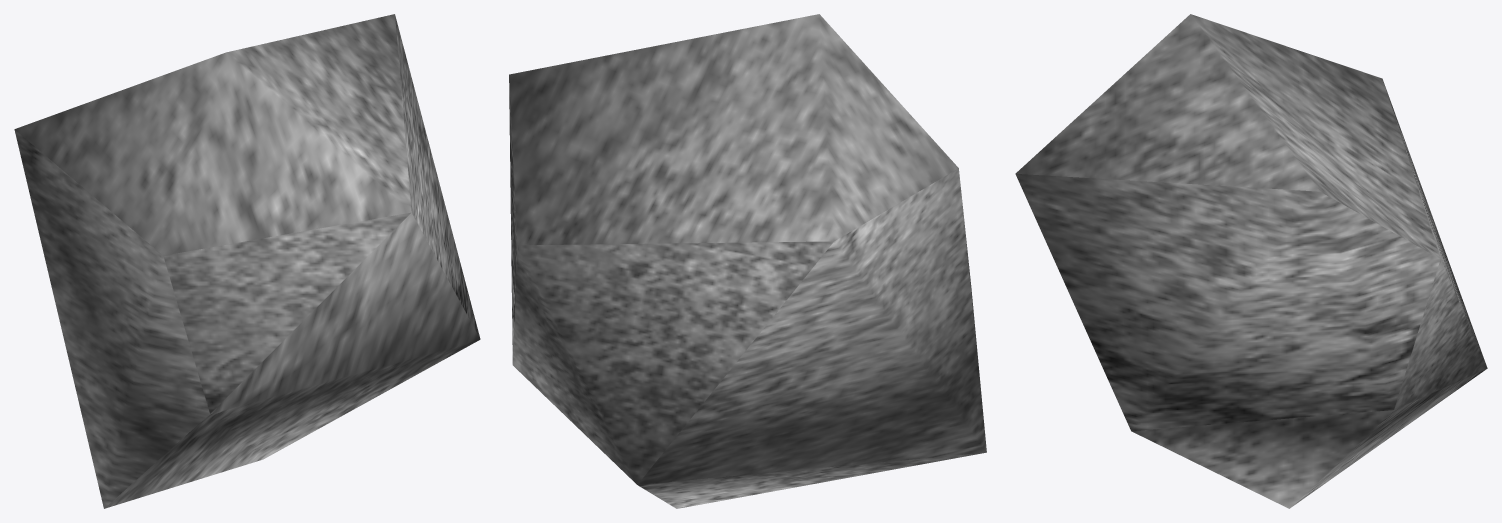
The model's file is GeoSphere008.FBX.
3 views of the same model, side by side, from view 1: azimuth 30°, elevation 25°; view 2: azimuth 150°, elevation 25°; view 3: azimuth 270°, elevation 25° (orthographic). The views are drawn at different scales.
Parts seen in each view (by area): view 1: GeoSphere008; view 2: GeoSphere008; view 3: GeoSphere008.
Boxes of the visible parts, left/top/right/bottom form: GeoSphere008: left=14, top=14, right=480, bottom=508; GeoSphere008: left=509, top=14, right=986, bottom=508; GeoSphere008: left=1015, top=14, right=1487, bottom=508.
Bounding box in the file's own units: 6.23 × 7.33 × 6.93.
